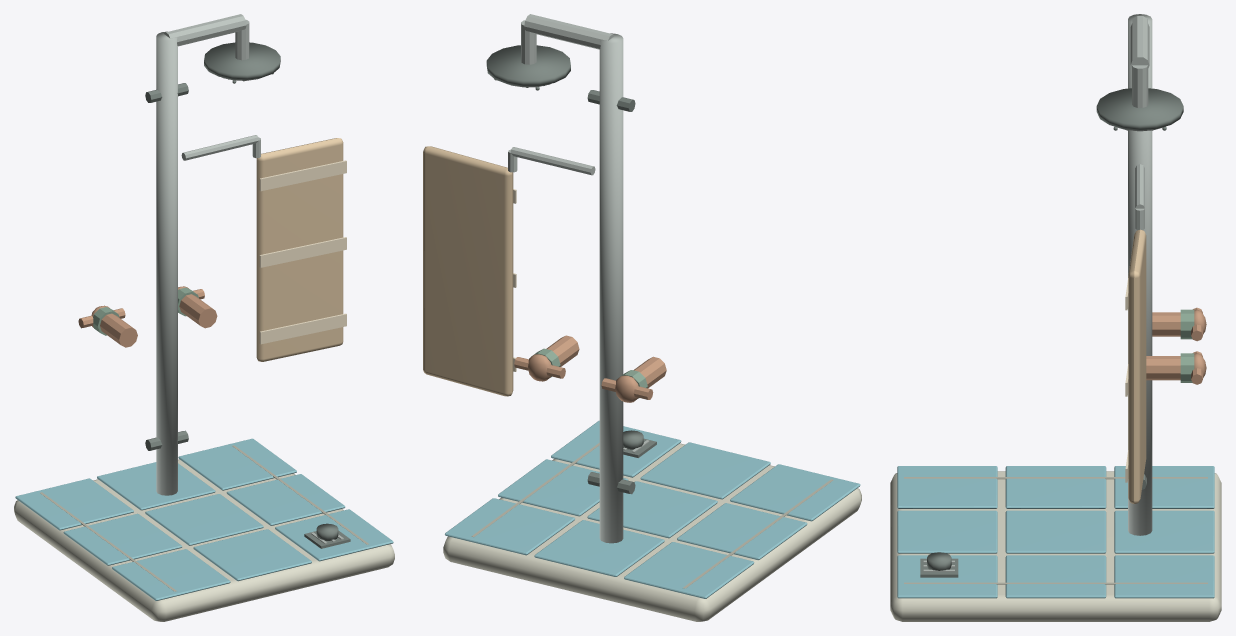
File: poolside_shower.glb
The picture shows the model from 3 angles, left to right: view 1: azimuth 30°, elevation 25°; view 2: azimuth 150°, elevation 25°; view 3: azimuth 270°, elevation 25°; orthographic projection. The views are drawn at different scales.
Visible parts, largest first — view 1: Old striped pool towel, Faded tiled shower pad, Shower riser, Sun-faded blue tile.005, Sun-faded blue tile.004, Sun-faded blue tile.002, Sun-faded blue tile, Sun-faded blue tile.006, Sun-faded blue tile.007, Sun-faded blue tile.001, Sun-faded blue tile.003, Sun-faded blue tile.008 (+8 smaller); view 2: Old striped pool towel, Faded tiled shower pad, Shower riser, Sun-faded blue tile.005, Sun-faded blue tile, Sun-faded blue tile.006, Sun-faded blue tile.002, Sun-faded blue tile.001, Sun-faded blue tile.003, Sun-faded blue tile.004, Sun-faded blue tile.007, Old shower rose (+3 smaller); view 3: Faded tiled shower pad, Shower riser, Old striped pool towel, Sun-faded blue tile.004, Sun-faded blue tile.005, Sun-faded blue tile.007, Sun-faded blue tile.006, Sun-faded blue tile.001, Sun-faded blue tile.002, Sun-faded blue tile.003, Sun-faded blue tile.008, Sun-faded blue tile (+7 smaller).
Part boxes in pixels (left/top/right/bottom): Old striped pool towel: left=256, top=138, right=343, bottom=361; Faded tiled shower pad: left=14, top=459, right=394, bottom=621; Shower riser: left=156, top=31, right=177, bottom=495; Sun-faded blue tile.005: left=193, top=529, right=311, bottom=581; Sun-faded blue tile.004: left=145, top=494, right=263, bottom=545; Sun-faded blue tile.002: left=112, top=549, right=230, bottom=600; Sun-faded blue tile: left=15, top=478, right=133, bottom=530; Sun-faded blue tile.006: left=178, top=438, right=296, bottom=490; Sun-faded blue tile.007: left=226, top=474, right=345, bottom=525; Sun-faded blue tile.001: left=63, top=513, right=182, bottom=565; Sun-faded blue tile.003: left=97, top=462, right=215, bottom=510; Sun-faded blue tile.008: left=275, top=509, right=393, bottom=561; Old striped pool towel: left=423, top=146, right=513, bottom=396; Faded tiled shower pad: left=443, top=443, right=861, bottom=621; Shower riser: left=599, top=33, right=623, bottom=543; Sun-faded blue tile.005: left=640, top=442, right=770, bottom=499; Sun-faded blue tile: left=624, top=542, right=754, bottom=598; Sun-faded blue tile.006: left=445, top=498, right=574, bottom=555; Sun-faded blue tile.002: left=730, top=464, right=860, bottom=521; Sun-faded blue tile.001: left=677, top=503, right=807, bottom=560; Sun-faded blue tile.003: left=534, top=520, right=664, bottom=576; Sun-faded blue tile.004: left=587, top=481, right=717, bottom=538; Sun-faded blue tile.007: left=498, top=459, right=628, bottom=516; Old shower rose: left=486, top=45, right=570, bottom=86; Faded tiled shower pad: left=890, top=471, right=1221, bottom=621; Shower riser: left=1128, top=14, right=1152, bottom=535; Old striped pool towel: left=1128, top=229, right=1146, bottom=503; Sun-faded blue tile.004: left=1005, top=510, right=1106, bottom=553; Sun-faded blue tile.005: left=897, top=510, right=997, bottom=553; Sun-faded blue tile.007: left=1005, top=555, right=1106, bottom=598; Sun-faded blue tile.006: left=1114, top=555, right=1214, bottom=598; Sun-faded blue tile.001: left=1005, top=466, right=1106, bottom=508; Sun-faded blue tile.002: left=897, top=466, right=997, bottom=508; Sun-faded blue tile.003: left=1114, top=510, right=1214, bottom=553; Sun-faded blue tile.008: left=897, top=555, right=997, bottom=598; Sun-faded blue tile: left=1114, top=466, right=1214, bottom=508.
Size of the model in its own units: 1.41 by 2.21 by 1.22.
